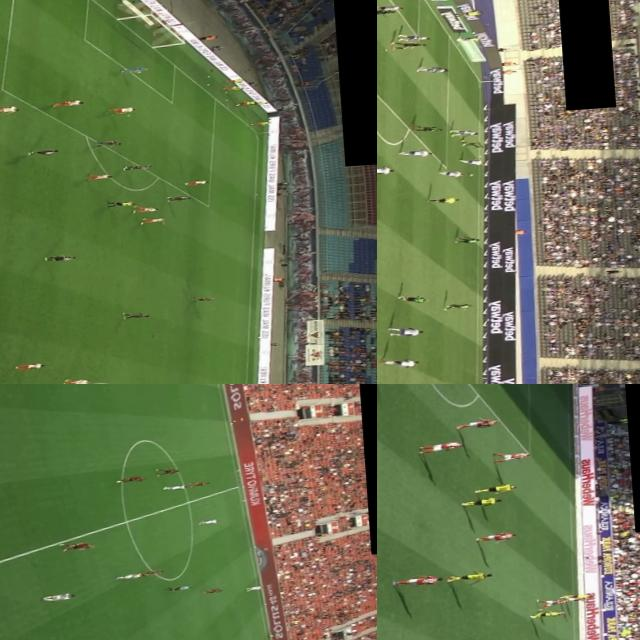ball: (466, 171, 476, 176), (134, 68, 142, 74)
player: (391, 574, 443, 586), (418, 439, 465, 452), (448, 569, 494, 582), (56, 538, 98, 552), (471, 482, 518, 494), (459, 494, 502, 507), (378, 355, 418, 368), (491, 449, 530, 462), (474, 530, 516, 542), (456, 417, 498, 428), (24, 144, 62, 156), (390, 325, 429, 336), (41, 250, 76, 262), (12, 359, 44, 372), (39, 590, 79, 600), (394, 38, 428, 49), (396, 30, 431, 40), (123, 160, 152, 172), (158, 480, 189, 491), (532, 608, 566, 618), (536, 597, 570, 607), (396, 292, 428, 302), (446, 126, 477, 136), (120, 309, 150, 319), (403, 145, 430, 156), (415, 64, 444, 74), (116, 570, 145, 580), (107, 104, 135, 114), (132, 202, 160, 212), (443, 300, 471, 310), (452, 234, 480, 244), (113, 474, 147, 482), (183, 177, 210, 187), (377, 0, 407, 9), (461, 136, 483, 148), (164, 192, 190, 202), (458, 156, 484, 166), (194, 516, 220, 526), (52, 98, 84, 106), (90, 138, 122, 146), (0, 102, 20, 114), (190, 293, 214, 303), (61, 376, 91, 384), (442, 167, 466, 177), (415, 124, 445, 132), (140, 568, 164, 578), (564, 591, 594, 599), (377, 6, 398, 17), (136, 215, 164, 223), (377, 161, 393, 175), (183, 480, 211, 488), (86, 170, 112, 178), (120, 64, 146, 72), (154, 465, 180, 473), (203, 585, 225, 593), (242, 584, 264, 590)
